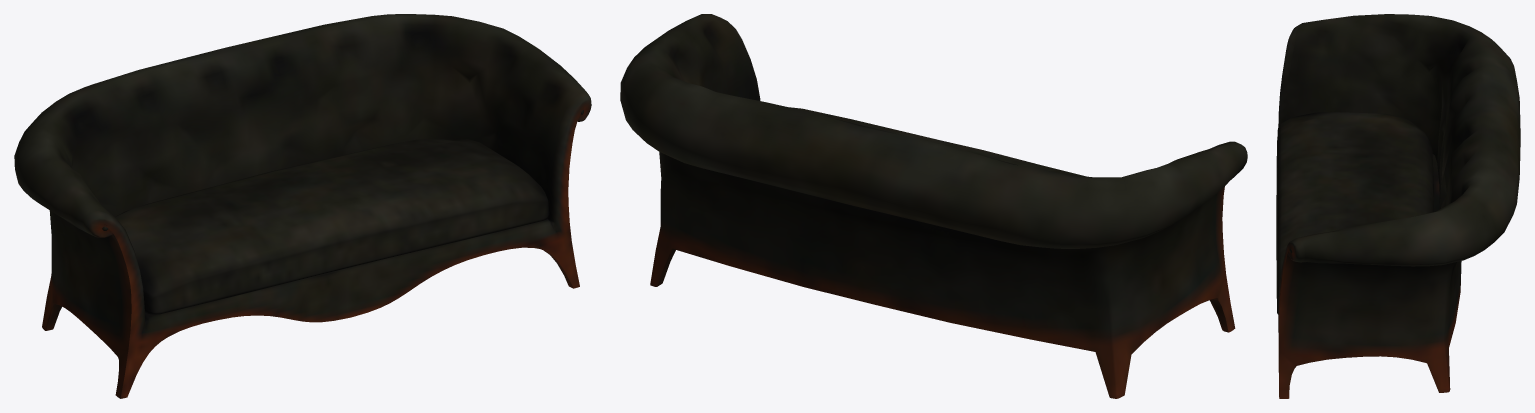
File: Sofa_astral3d.optimize.glb
The picture shows the model from 3 angles, left to right: view 1: azimuth 30°, elevation 25°; view 2: azimuth 150°, elevation 25°; view 3: azimuth 270°, elevation 25°; orthographic projection. The views are drawn at different scales.
Parts seen in each view (by area): view 1: sofa_02_Base; view 2: sofa_02_Base; view 3: sofa_02_Base.
Part boxes in pixels (<box>): sofa_02_Base: <box>14,14,591,398</box>; sofa_02_Base: <box>620,14,1247,398</box>; sofa_02_Base: <box>1276,14,1520,398</box>.
Size of the model in its own units: 1.81 by 0.7095 by 0.8177.
Materials: 1 (1 with a texture image).
